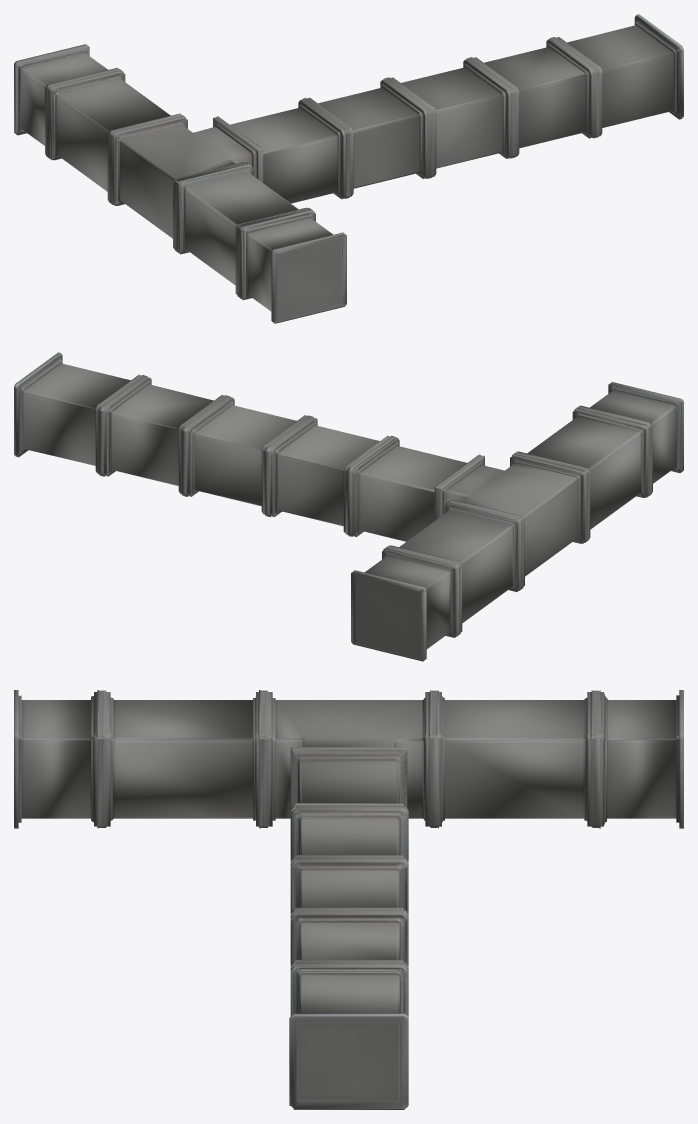
The model's file is PPE_B_Duct.fbx.
3 views of the same model, one above another, from view 1: azimuth 30°, elevation 25°; view 2: azimuth 150°, elevation 25°; view 3: azimuth 270°, elevation 25° (orthographic). The views are drawn at different scales.
Visible parts, largest first — view 1: tripo_node_90fd59d6; view 2: tripo_node_90fd59d6; view 3: tripo_node_90fd59d6.
Boxes of the visible parts, bbox=[...] form: tripo_node_90fd59d6: bbox=[14, 14, 683, 323]; tripo_node_90fd59d6: bbox=[14, 352, 683, 661]; tripo_node_90fd59d6: bbox=[14, 690, 683, 1109].
Size of the model in its own units: 0.998 by 0.1348 by 0.8652.
